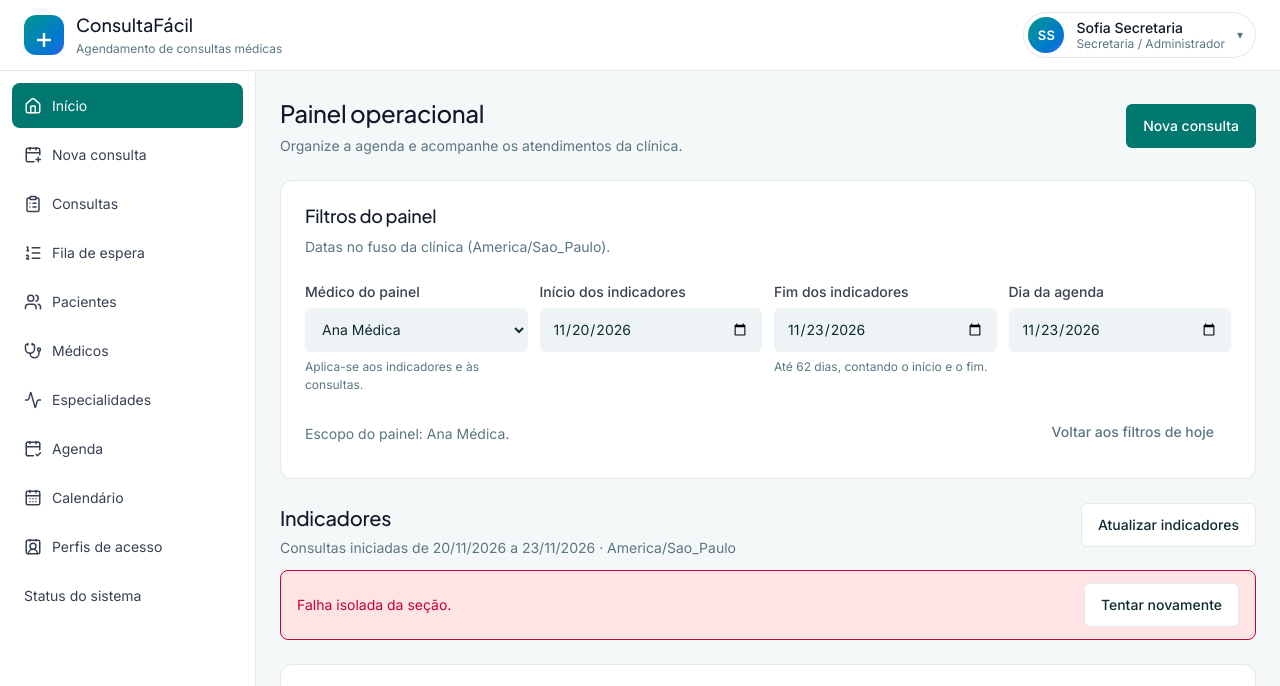
Test: nova tentativa de /indicadores preserva os filtros e renova somente a sua seção
The width and height of the screenshot is (1280, 686).
expect the message "Falha isolada da seção. Tentar novamente" is shown: met, box x1=280 y1=570 x2=1256 y2=640
Click the button "Tentar novamente": click(1161, 604) x1=1084 y1=582 x2=1239 y2=626
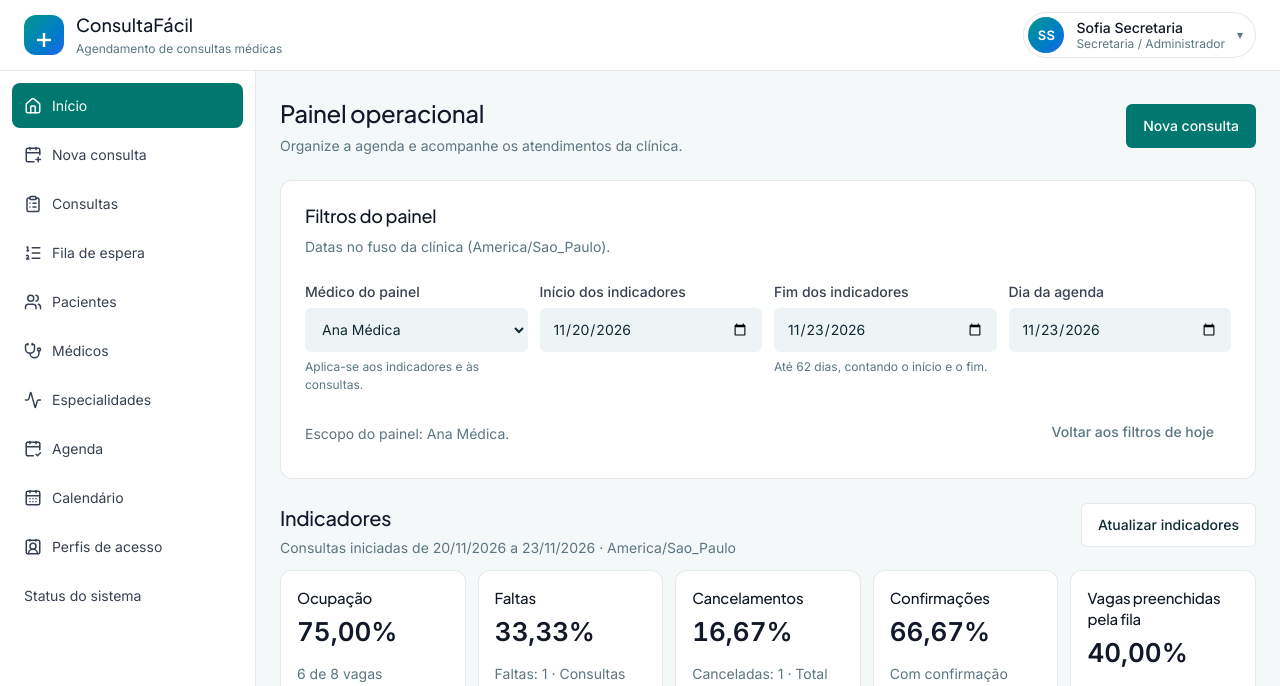
expect the dropdown labelled "Médico do painel" shows "Ana Médica": met, box x1=305 y1=308 x2=528 y2=352
expect the text "75,00%" is shown: met, box x1=297 y1=616 x2=397 y2=647
